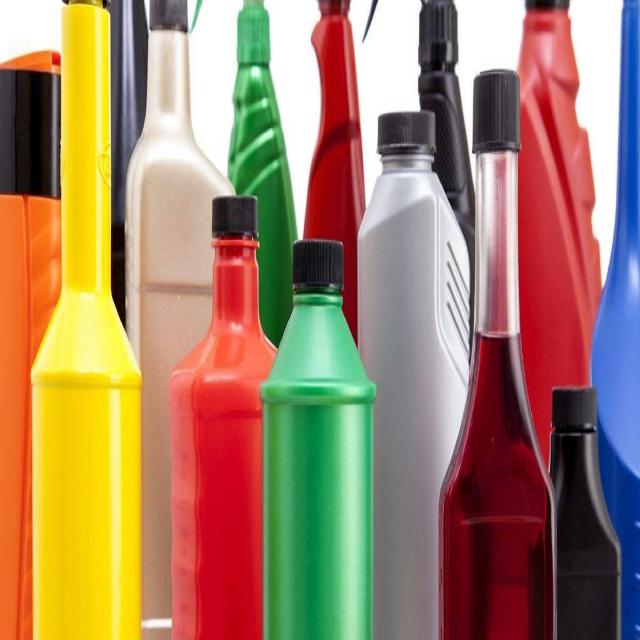plastic_bottle: (26, 1, 154, 640), (431, 59, 563, 640), (355, 106, 474, 640), (171, 196, 284, 640), (261, 233, 382, 640), (1, 41, 76, 640), (545, 381, 623, 640)
